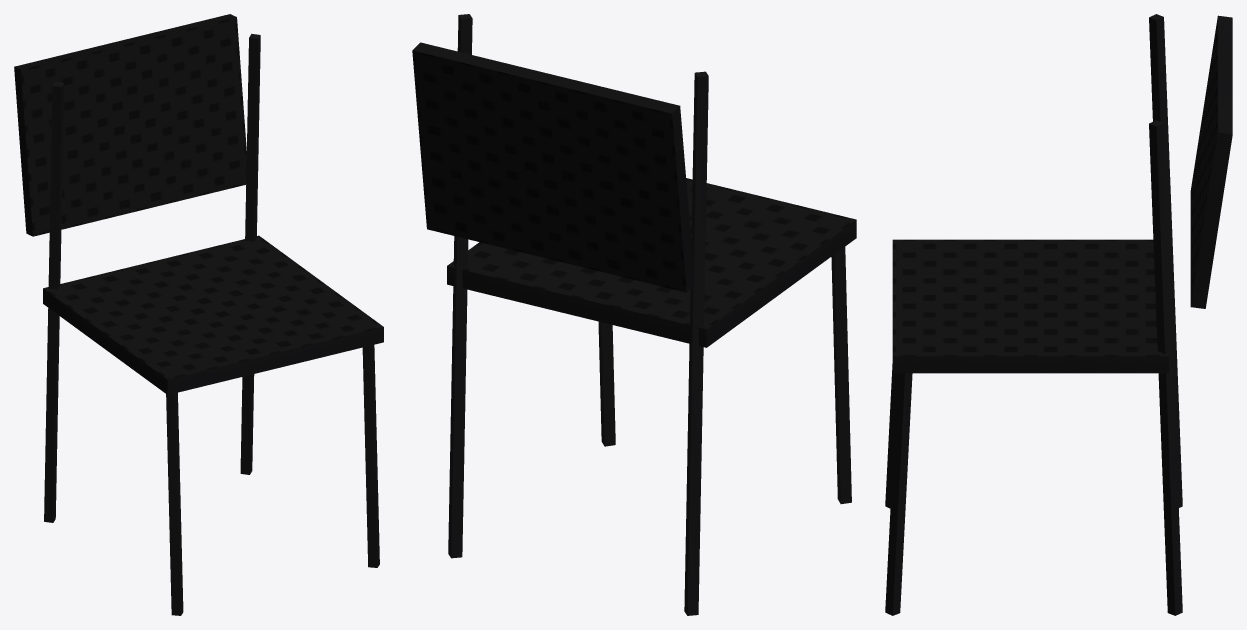
Rendered from SM_Molo_SediaNera_LOD1.fbx.
The picture shows the model from 3 angles, left to right: view 1: azimuth 30°, elevation 25°; view 2: azimuth 150°, elevation 25°; view 3: azimuth 270°, elevation 25°; orthographic projection. The views are drawn at different scales.
Parts seen in each view (by area): view 1: SM_Molo_SediaNera_LOD1; view 2: SM_Molo_SediaNera_LOD1; view 3: SM_Molo_SediaNera_LOD1.
Part boxes in pixels (<box>): SM_Molo_SediaNera_LOD1: <box>14,14,383,615</box>; SM_Molo_SediaNera_LOD1: <box>412,14,856,615</box>; SM_Molo_SediaNera_LOD1: <box>885,14,1232,615</box>.
Size of the model in its own units: 44 by 55.36 by 86.1.
1 material, 1 textured.
